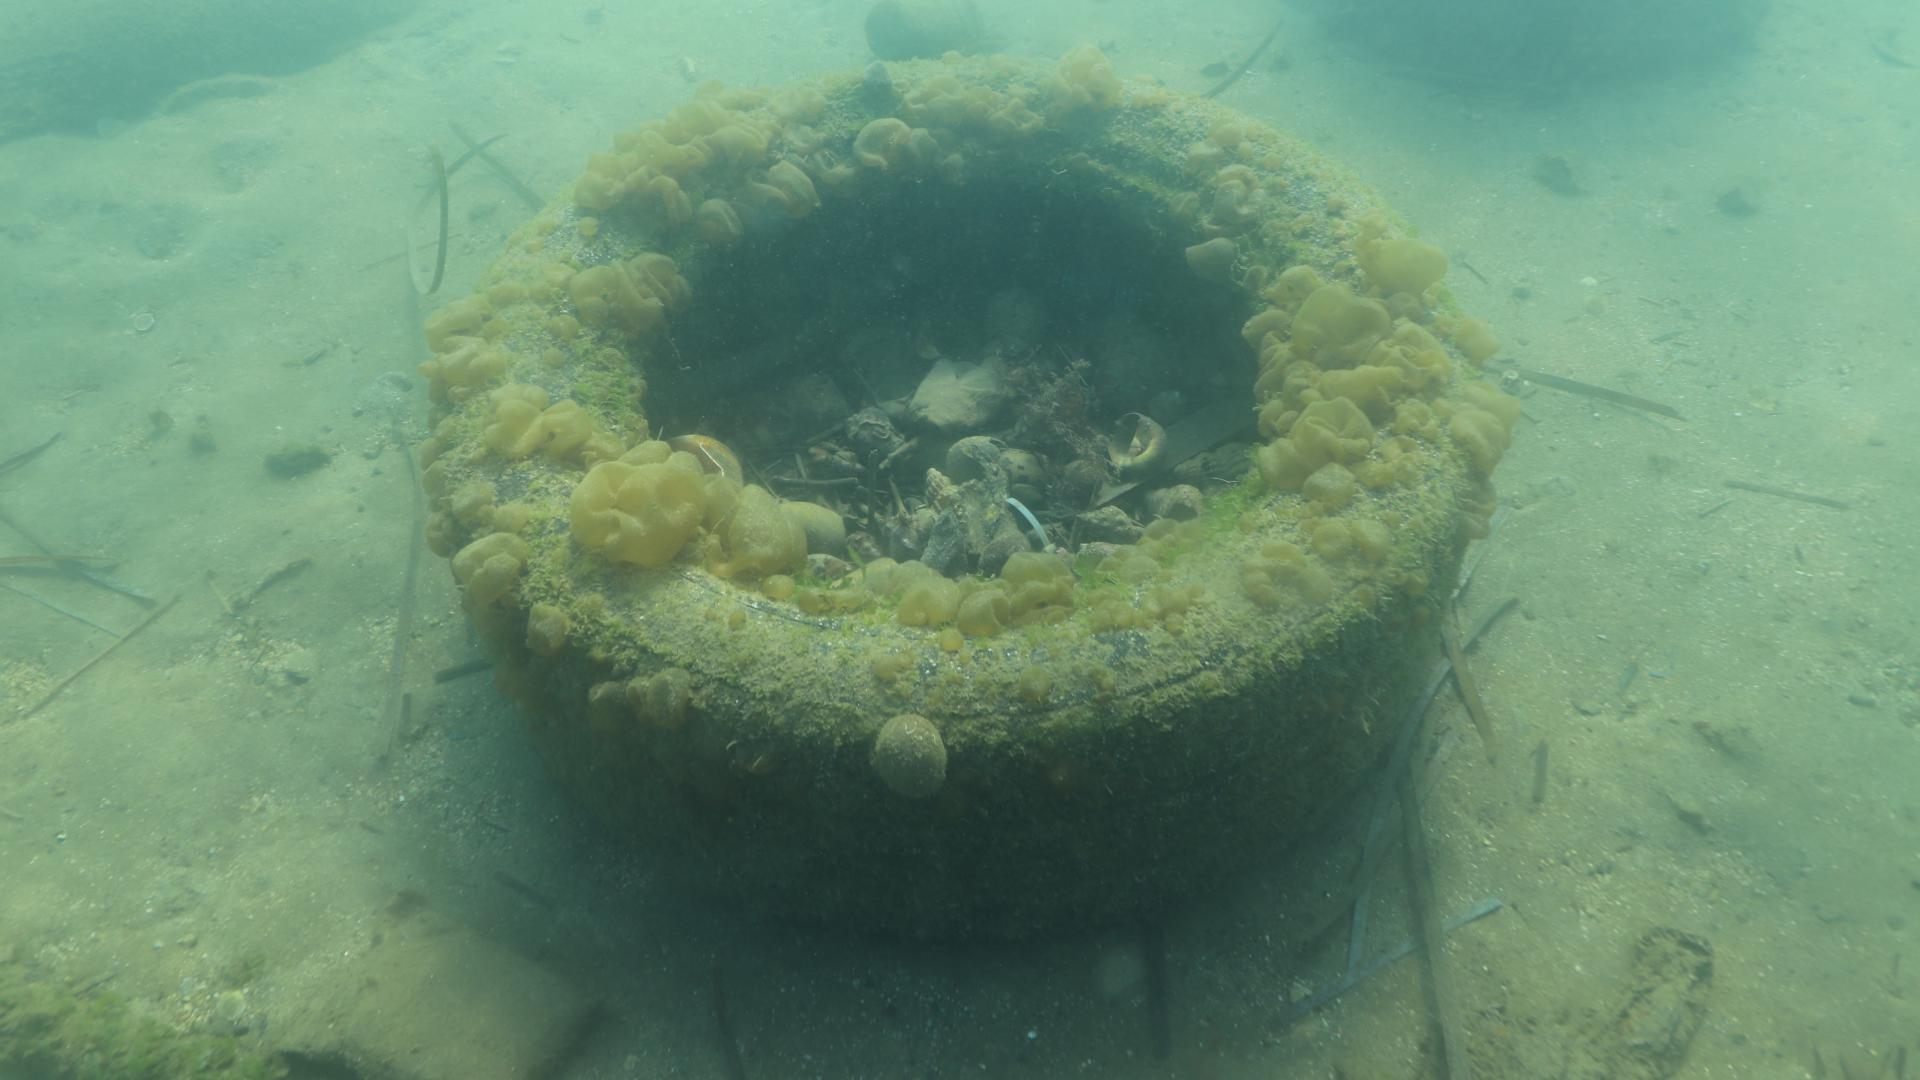tire: (434, 53, 1476, 935)
